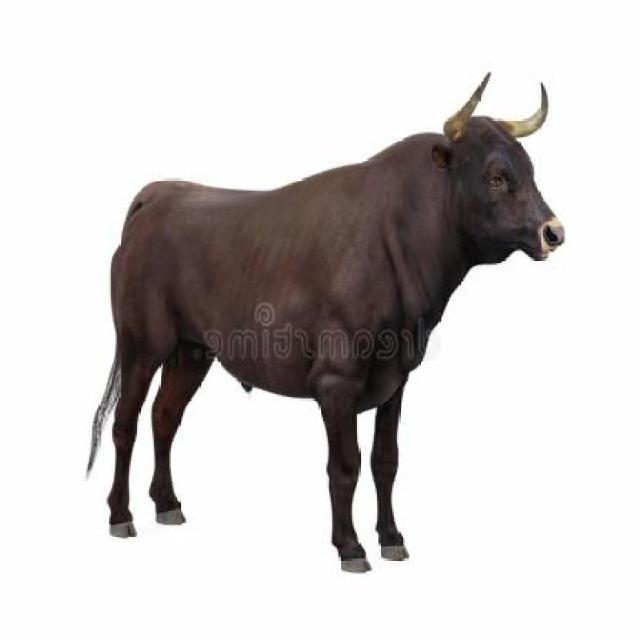Cow: (80, 70, 572, 572)
